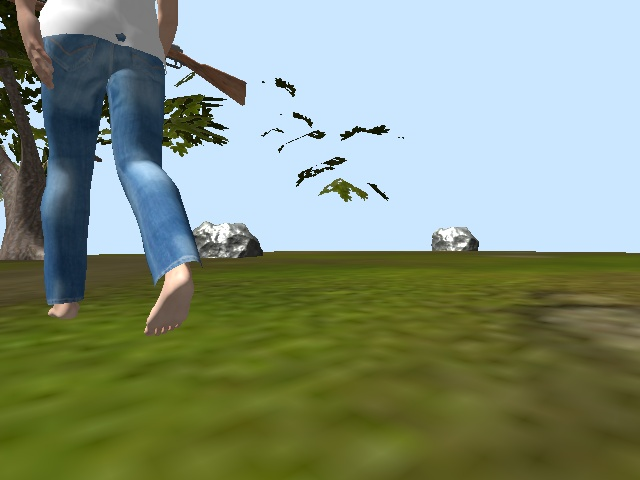animal: (8, 0, 199, 334)
rifle: (164, 41, 248, 110)
